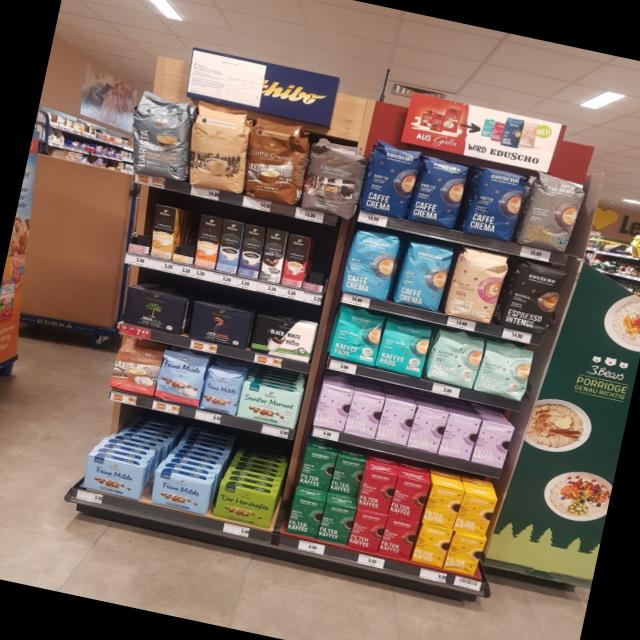BM Gemahlen: (119, 284, 190, 336)
BW Gemahlen: (248, 313, 318, 362)
Barista CC: (118, 88, 198, 184)
CC Mild: (180, 98, 257, 195)
CC Vollmundig: (108, 334, 165, 398)
CC Vollmundig 36 Pads: (237, 114, 313, 209)
Empty Shelf: (168, 208, 202, 257), (302, 238, 334, 286), (125, 198, 157, 246)
Espresso Aromatisch: (298, 132, 370, 224)
FM 36 Pads: (153, 346, 209, 409)
FM Bohne: (197, 363, 245, 418)
FM Gemahlen: (78, 451, 147, 502), (147, 468, 215, 517)
Herzhatfe Mundig: (212, 482, 280, 531)
LG Gemahlen: (184, 298, 256, 351)
SM Gemahlen: (236, 382, 302, 429)
Simo CCVollmundig bigpack: (190, 214, 224, 270)
Simo Decaff: (150, 204, 177, 259)
Simo Es Brazil: (280, 233, 312, 290)
Simo Es Elegant: (256, 228, 290, 284)
Simo Es Kraft: (235, 224, 268, 278)
Simo Es Vanilla: (213, 219, 246, 274)
